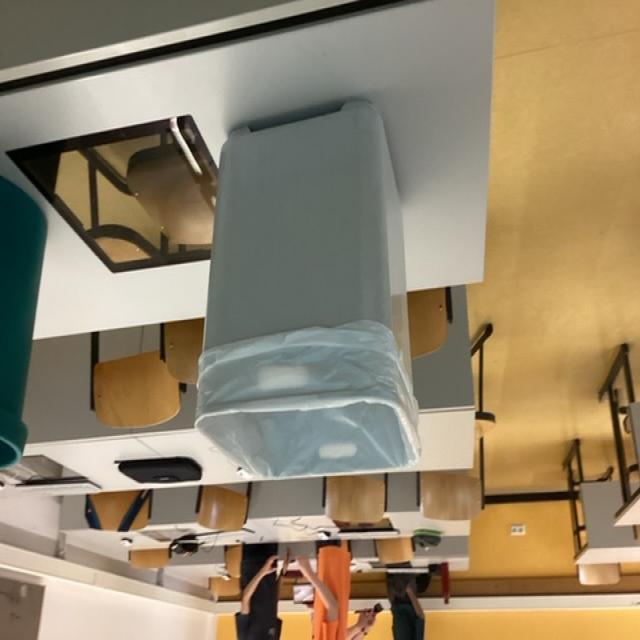garbage container: (174, 88, 435, 514)
